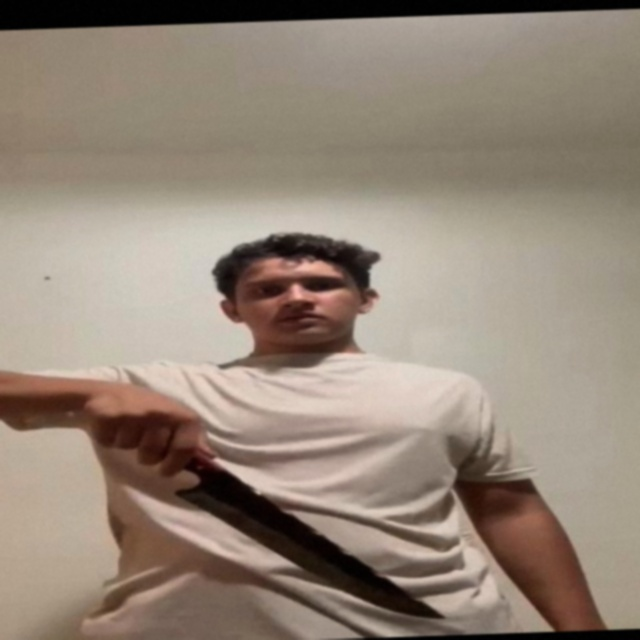Sharp-Object: (171, 467, 440, 626)
